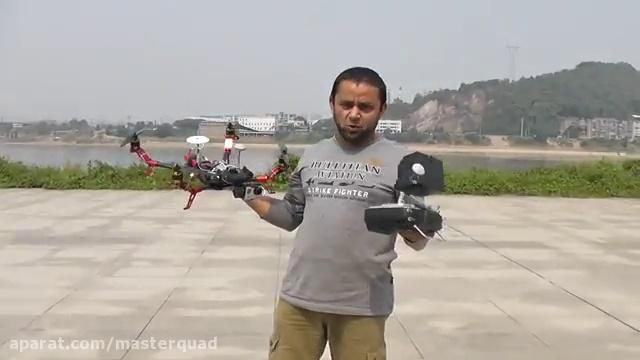drone: (115, 118, 295, 209)
